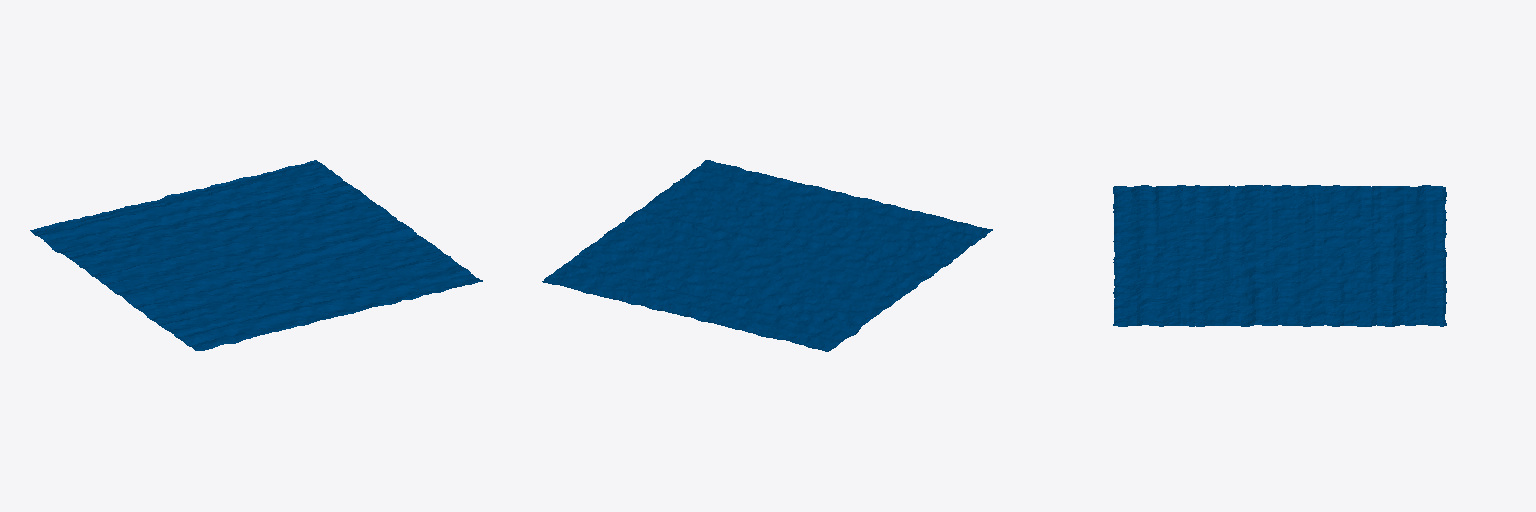
Rendered from water.obj.
3 renders of one model, left to right at view 1: azimuth 30°, elevation 25°; view 2: azimuth 150°, elevation 25°; view 3: azimuth 270°, elevation 25°, orthographic.
Visible parts, largest first — view 1: water; view 2: water; view 3: water.
Part boxes in pixels (x1,y1,x2,y2): water: (30,160,482,350); water: (542,160,992,351); water: (1113,185,1446,326).
Bounding box in the file's own units: 2.02 × 0.0311 × 2.01.